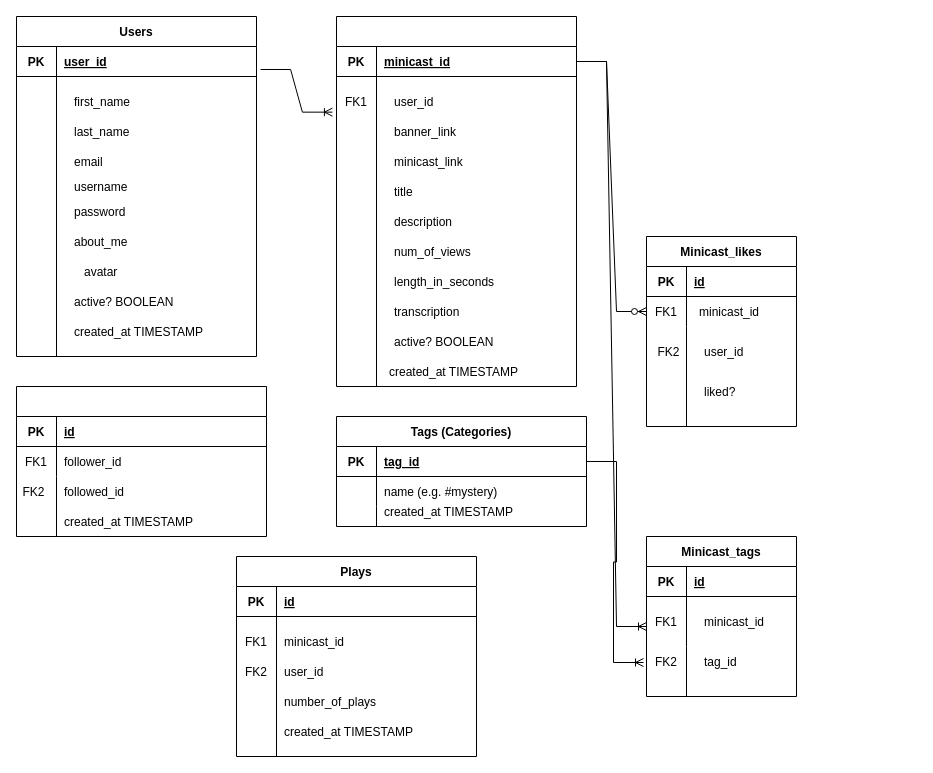
This 933x773 diagram has some shape labels left out. The shapes that lost their labels are listed below. From the top down, each one's box as (x1, y1, x2, y2) in pixels, then its label:
(336, 16, 576, 386): Minicasts
(16, 386, 266, 536): Followers
